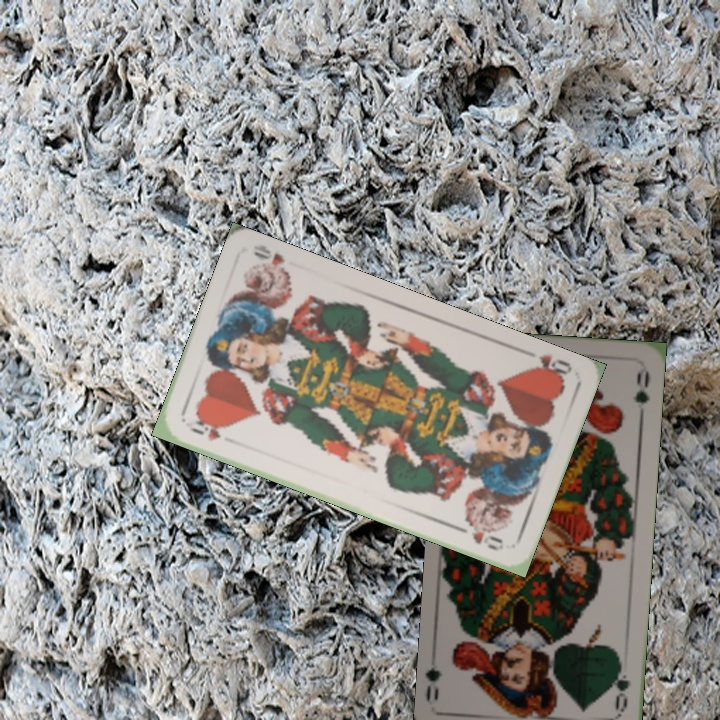GO: (608, 655, 633, 714)
HO: (523, 350, 575, 385), (186, 415, 223, 444)
